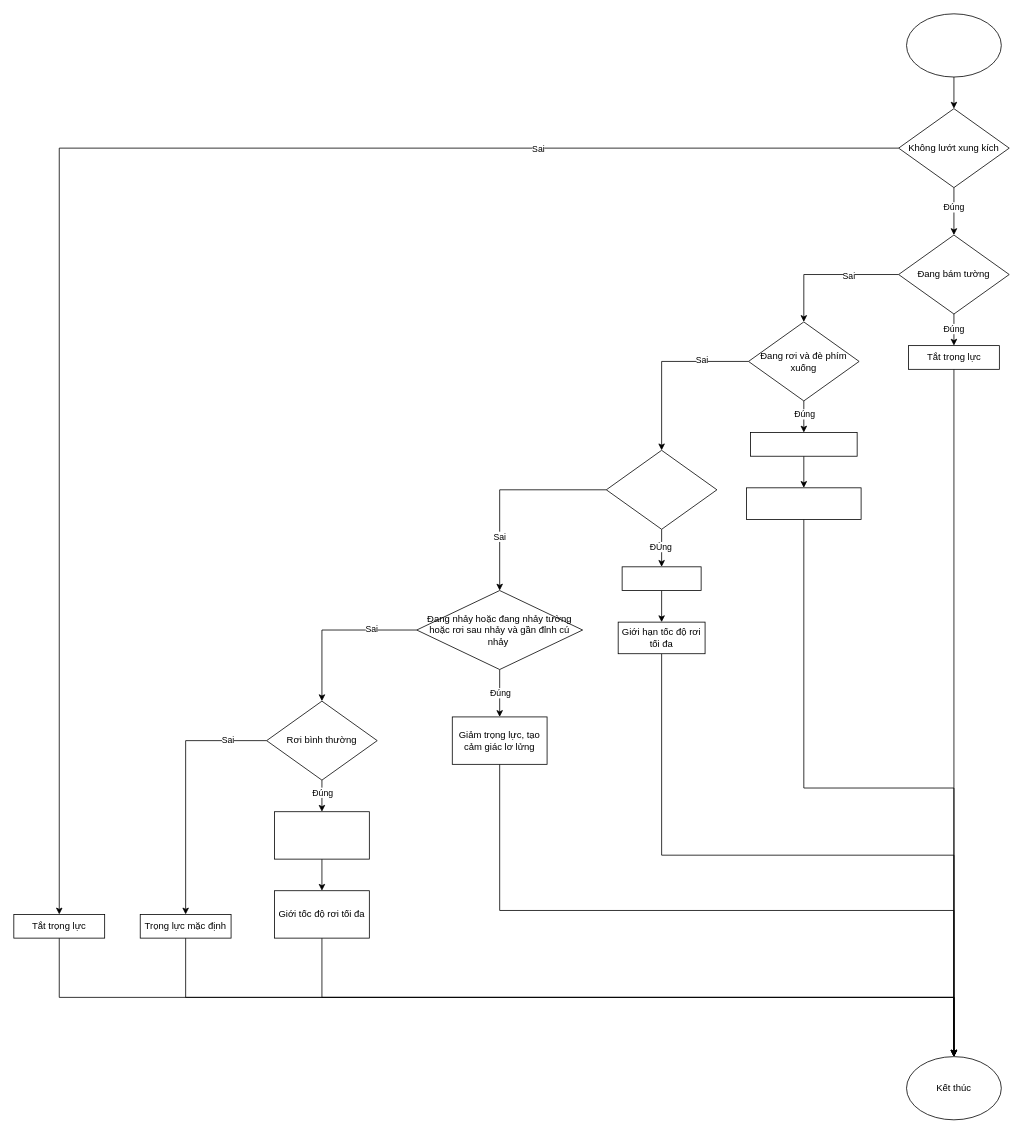
Image size: 1023x1134. Some labels were removed from this diagram. The centre of each missing label's shape, as x and y in pixels:
"Giới hạn tốc độ rơi nhanh tối đa" belongs at point 803,503.
"Nhảy ngắn" belongs at point 661,489.
"Tăng trọng lực" belongs at point 321,835.
"Tăng trọng lực rơi nhanh" belongs at point 803,444.
"Tăng trọng lực sau khi nhả phím" belongs at point 661,578.
"Xử lý trọng lực" belongs at point 953,45.
